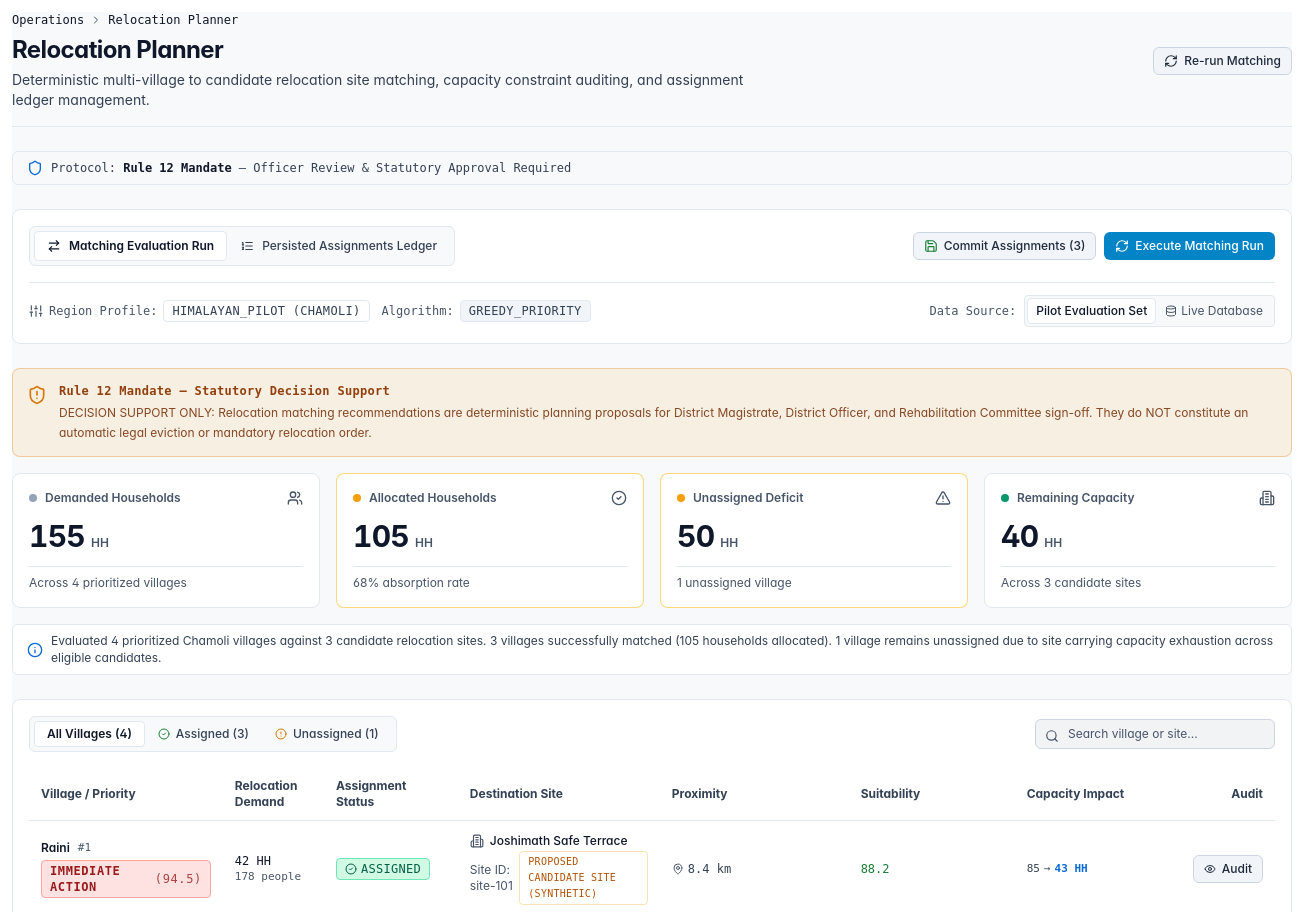
Test: Relocation Planner Workflow UI Suite (Chunk M6-02) › Village Assignment Table & Filtering › filters villages by search query
In the field with placeholder "Search village or site...": x=1155, y=734 [1035, 719, 1275, 749], type "Tapovan"
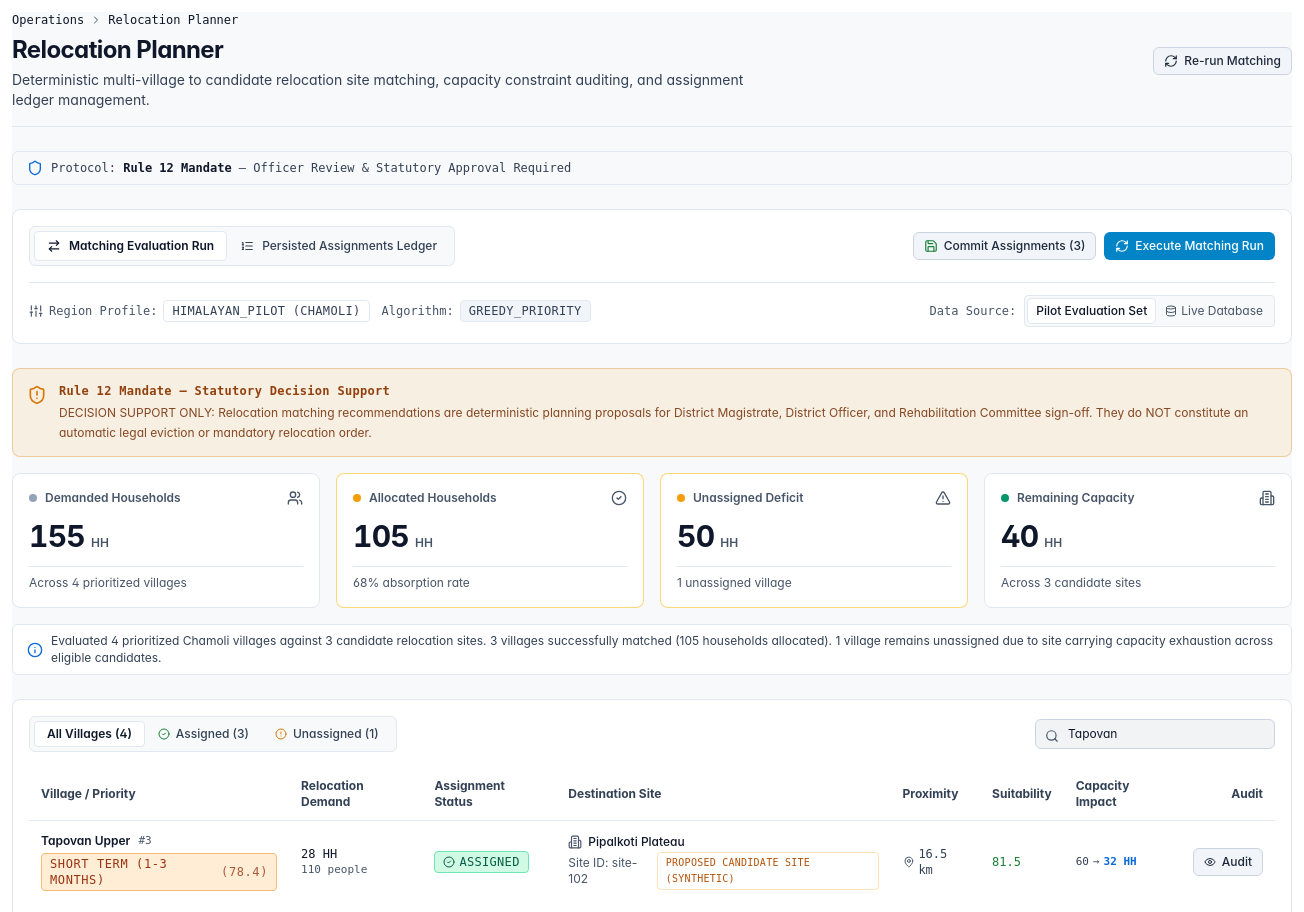
Expected: the text "Tapovan Upper" is shown, [41, 833, 130, 849]
Expected: the text "Raini" is gone
